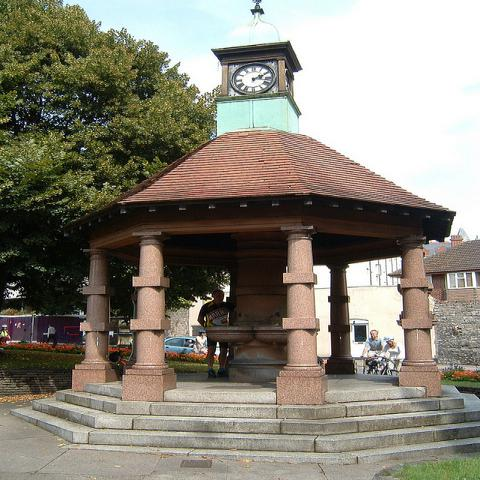car: (165, 338, 195, 354)
